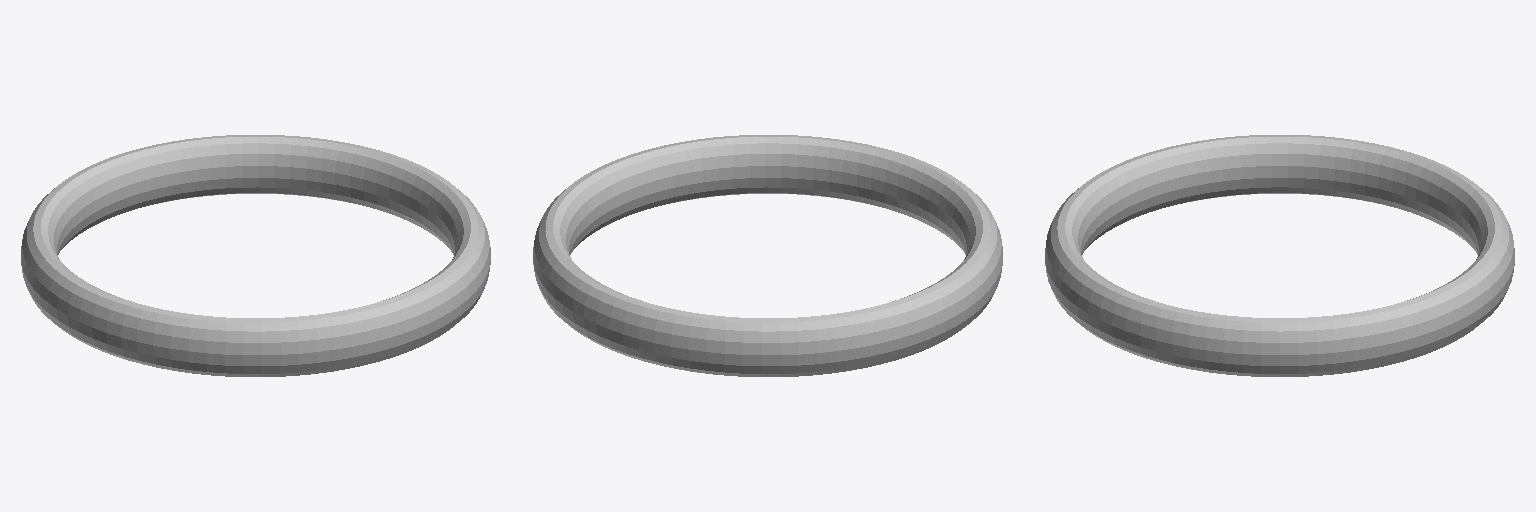
File: taurus.obj
3 views of the same model, side by side, from view 1: azimuth 30°, elevation 25°; view 2: azimuth 150°, elevation 25°; view 3: azimuth 270°, elevation 25° (orthographic).
Visible parts, largest first — view 1: Torus.001; view 2: Torus.001; view 3: Torus.001.
Part boxes in pixels (x1,y1,x2,y2): Torus.001: (21,135,490,376); Torus.001: (533,135,1002,376); Torus.001: (1045,135,1514,376).
Bounding box in the file's own units: 2.57 × 0.3445 × 2.57.